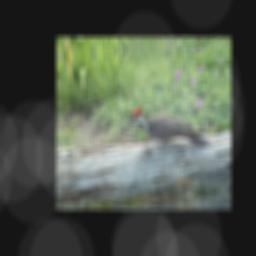Woodpecker: (120, 98, 213, 156)
